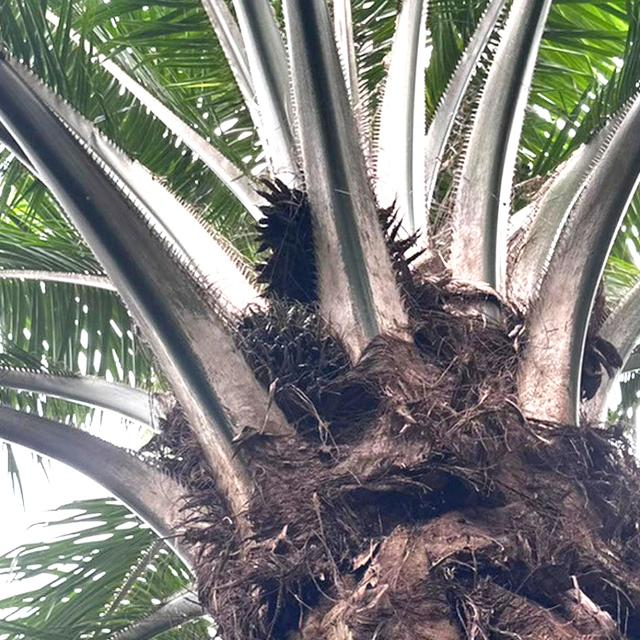unripe: (225, 297, 366, 433)
